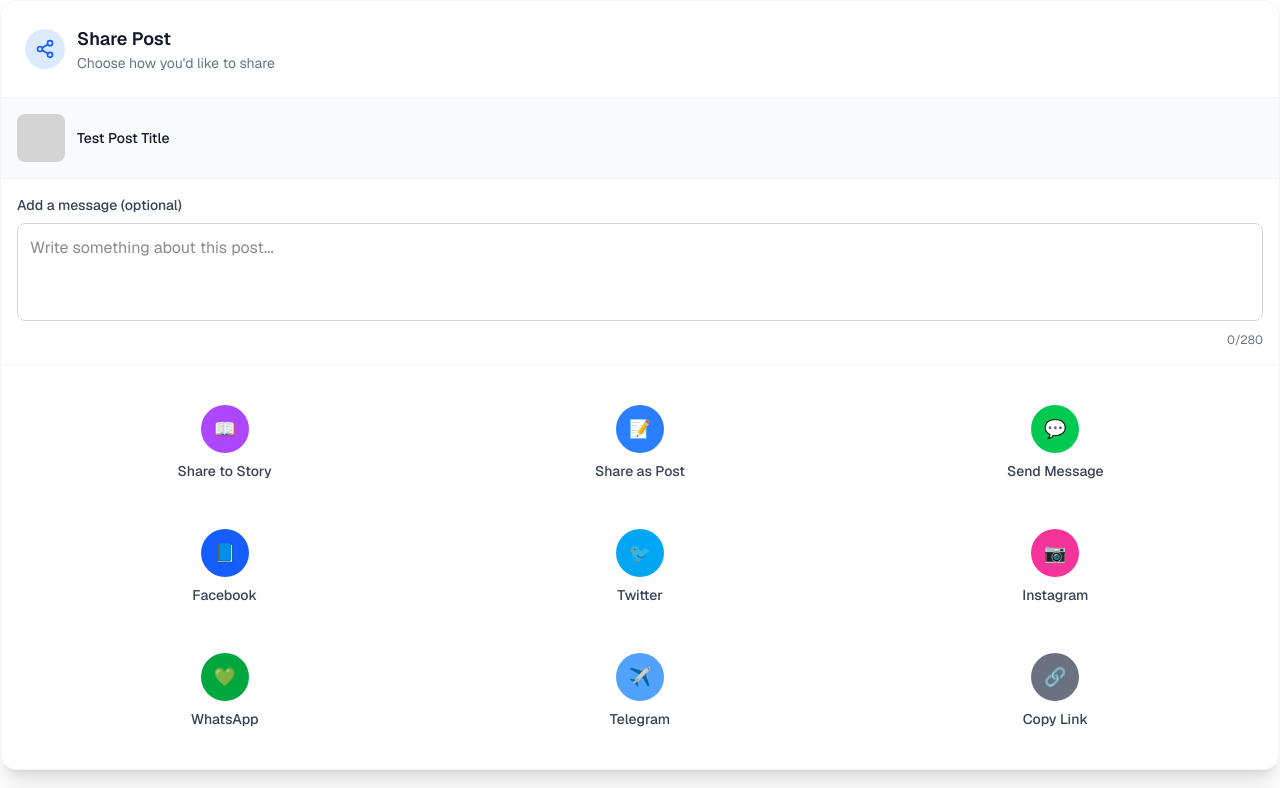
Test: ModernShareComponent › handles message input
The image size is (1280, 788).
Step 1. Type "Check this out!" into the text box with placeholder "Write something about this post..." → (640, 272), box top-left (17, 223), bottom-right (1263, 321)
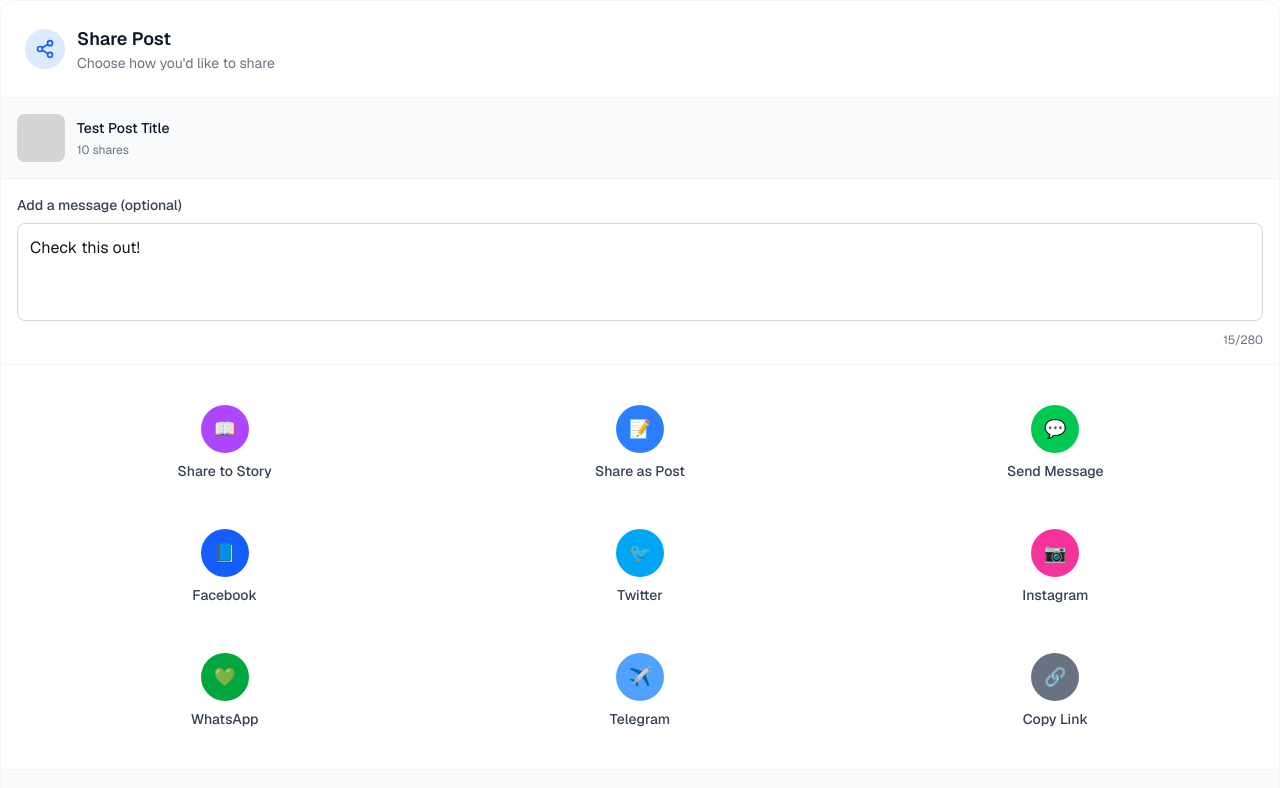
Expected: the text "15/280" is shown, top-left (1223, 332), bottom-right (1263, 348)
